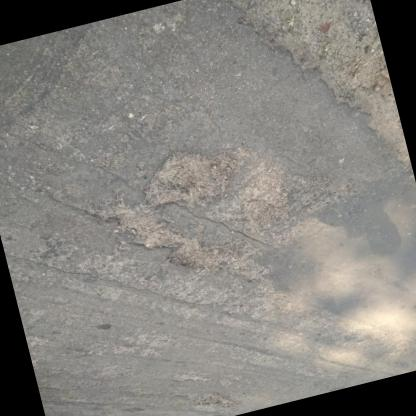pothole: (218, 0, 410, 198), (89, 180, 218, 295), (134, 140, 234, 224), (191, 387, 238, 416)
